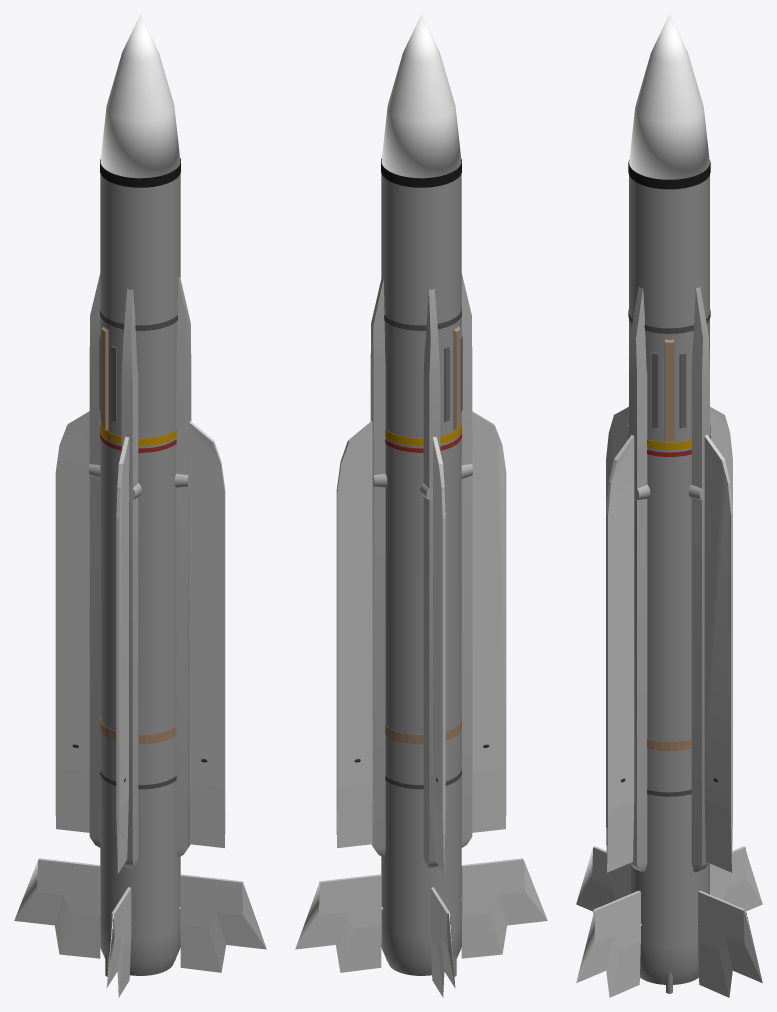
The model's file is pack1-missile-03.glb.
The picture shows the model from 3 angles, left to right: view 1: azimuth 30°, elevation 25°; view 2: azimuth 150°, elevation 25°; view 3: azimuth 270°, elevation 25°; orthographic projection.
Visible parts, largest first — view 1: Missile Pack 1 #3; view 2: Missile Pack 1 #3; view 3: Missile Pack 1 #3.
Boxes of the visible parts, <box> form: Missile Pack 1 #3: <box>14,14,266,997</box>; Missile Pack 1 #3: <box>295,14,547,997</box>; Missile Pack 1 #3: <box>576,14,762,997</box>.
Bounding box in the file's own units: 0.4214 × 2.4 × 0.4214.
18 materials, 18 textured.
